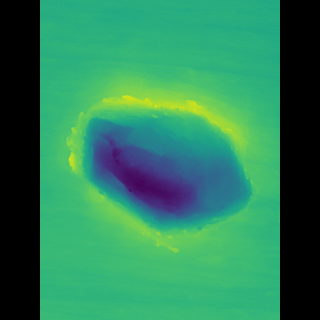Loch: (73, 75, 236, 259)
